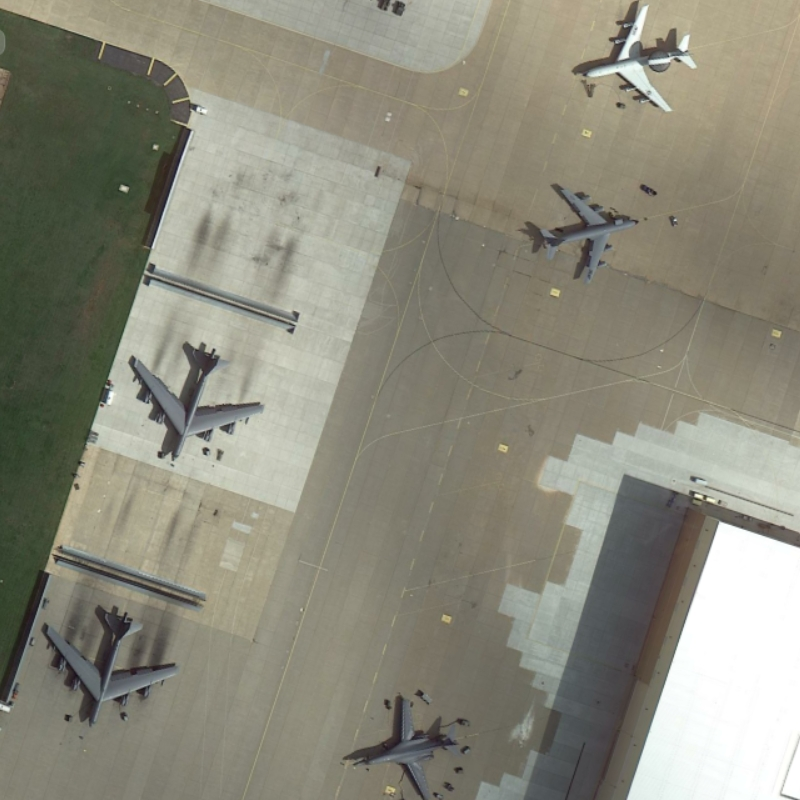A10: (343, 689, 460, 800)
A14: (531, 175, 643, 285)
A7: (572, 2, 704, 116)
A8: (37, 602, 184, 734), (124, 338, 269, 466)
